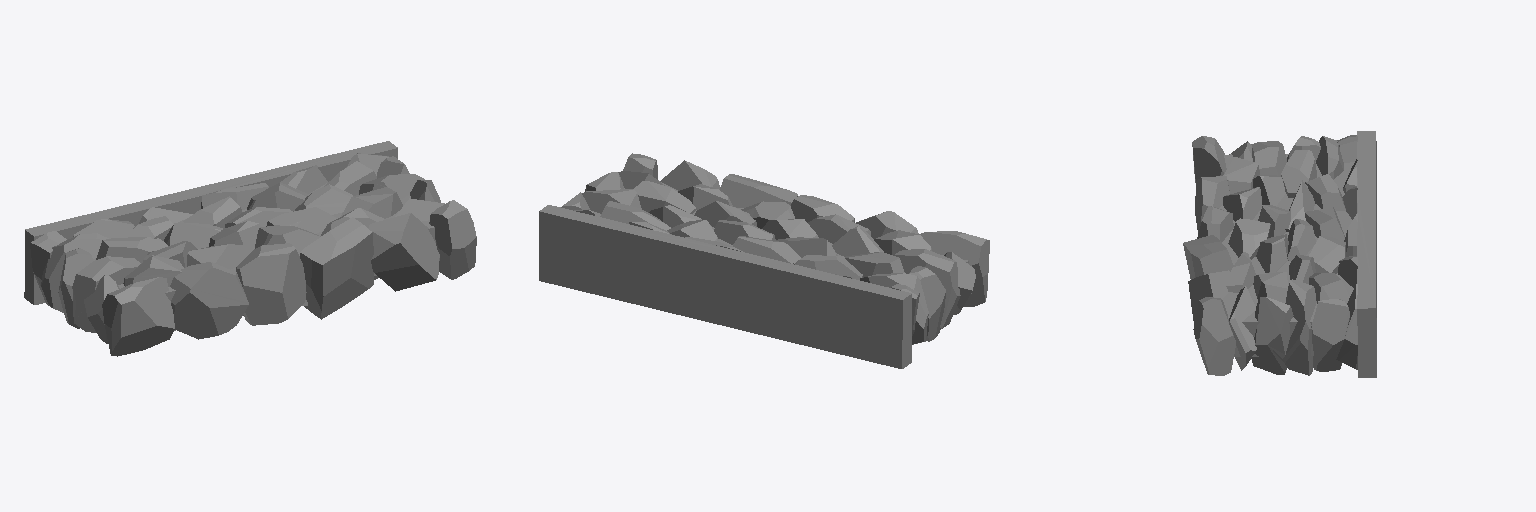
Rendered from wall.obj.
3 renders of one model, left to right at view 1: azimuth 30°, elevation 25°; view 2: azimuth 150°, elevation 25°; view 3: azimuth 270°, elevation 25°, orthographic.
Parts seen in each view (by area): view 1: OpenSCAD_Model; view 2: OpenSCAD_Model; view 3: OpenSCAD_Model.
Part boxes in pixels (x1,y1,x2,y2): OpenSCAD_Model: (24,141,476,356); OpenSCAD_Model: (539,153,989,368); OpenSCAD_Model: (1183,131,1376,377).
Bounding box in the file's own units: 296 × 63.28 × 133.